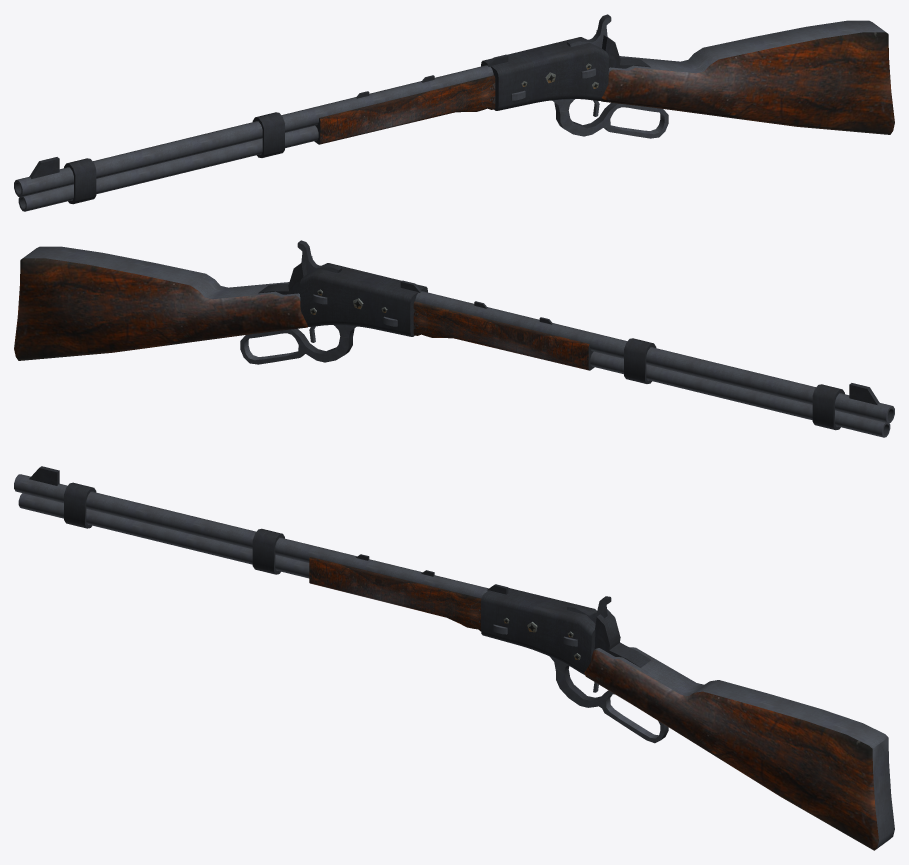
Rendered from gun-06.fbx.
3 renders of one model, top to bottom at view 1: azimuth 30°, elevation 25°; view 2: azimuth 150°, elevation 25°; view 3: azimuth 330°, elevation 25°, orthographic.
Parts seen in each view (by area): view 1: Cylinder.088; view 2: Cylinder.088; view 3: Cylinder.088.
Part boxes in pixels (x1=…): Cylinder.088: x1=14, y1=14, x2=894, y2=211; Cylinder.088: x1=14, y1=240, x2=894, y2=437; Cylinder.088: x1=14, y1=466, x2=894, y2=850.
Bounding box in the file's own units: 1.76 × 0.3489 × 0.0717.
